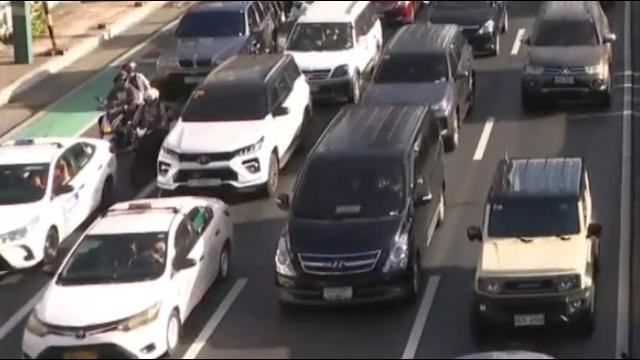car: (0, 186, 255, 360), (154, 46, 314, 199), (470, 156, 602, 331), (0, 127, 128, 274), (359, 24, 477, 151), (517, 0, 616, 111), (147, 0, 269, 84), (420, 0, 502, 61)
motorcycle: (95, 63, 159, 156), (130, 90, 173, 182)
van: (256, 103, 452, 321), (281, 1, 382, 103)
